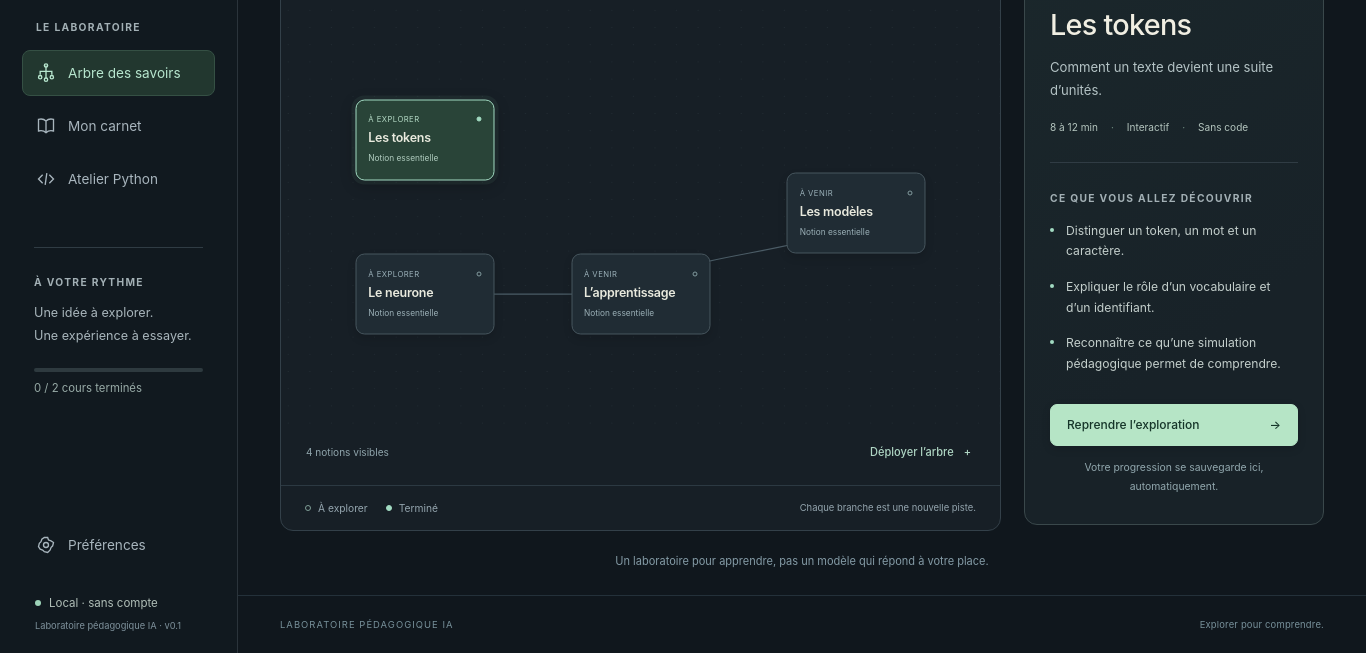
ne termine pas un cours sans exercice réussi
(page scrolled)
Click the button "Reprendre l’exploration →": (1174, 426) 1050,404 -> 1298,446
(page scrolled)
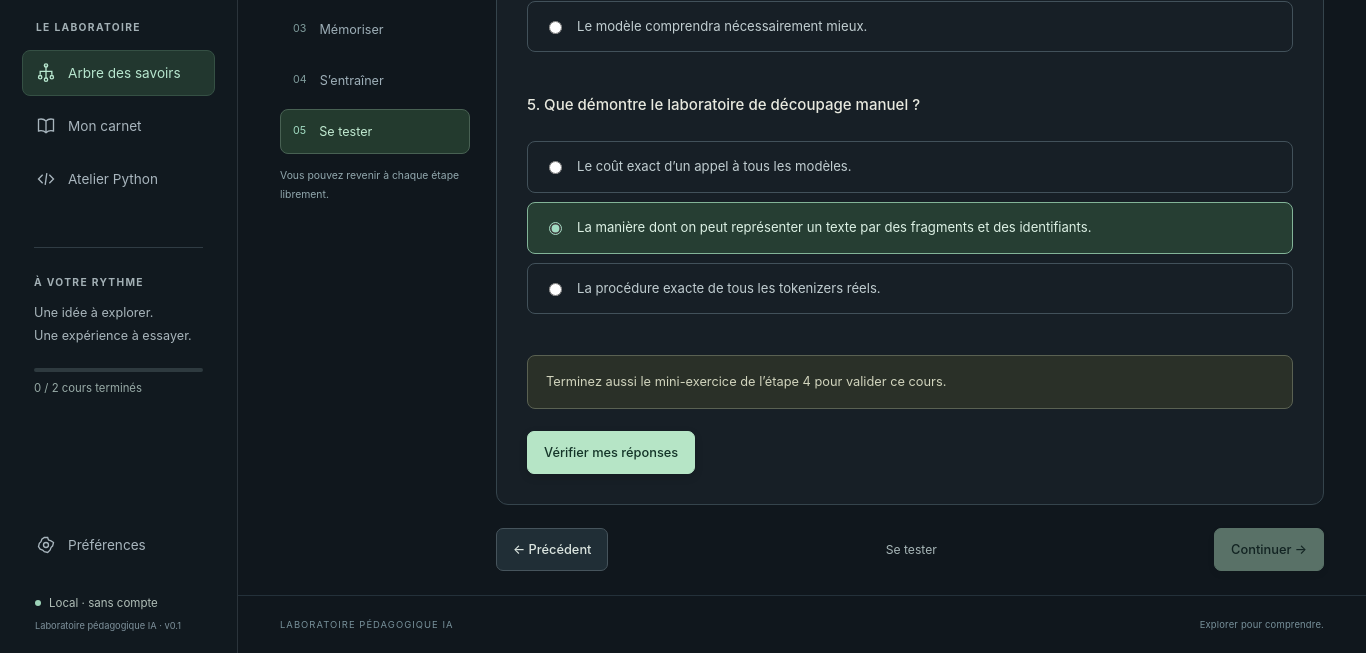
Click the button "Vérifier mes réponses": (611, 453) 527,431 -> 695,474
(page scrolled)
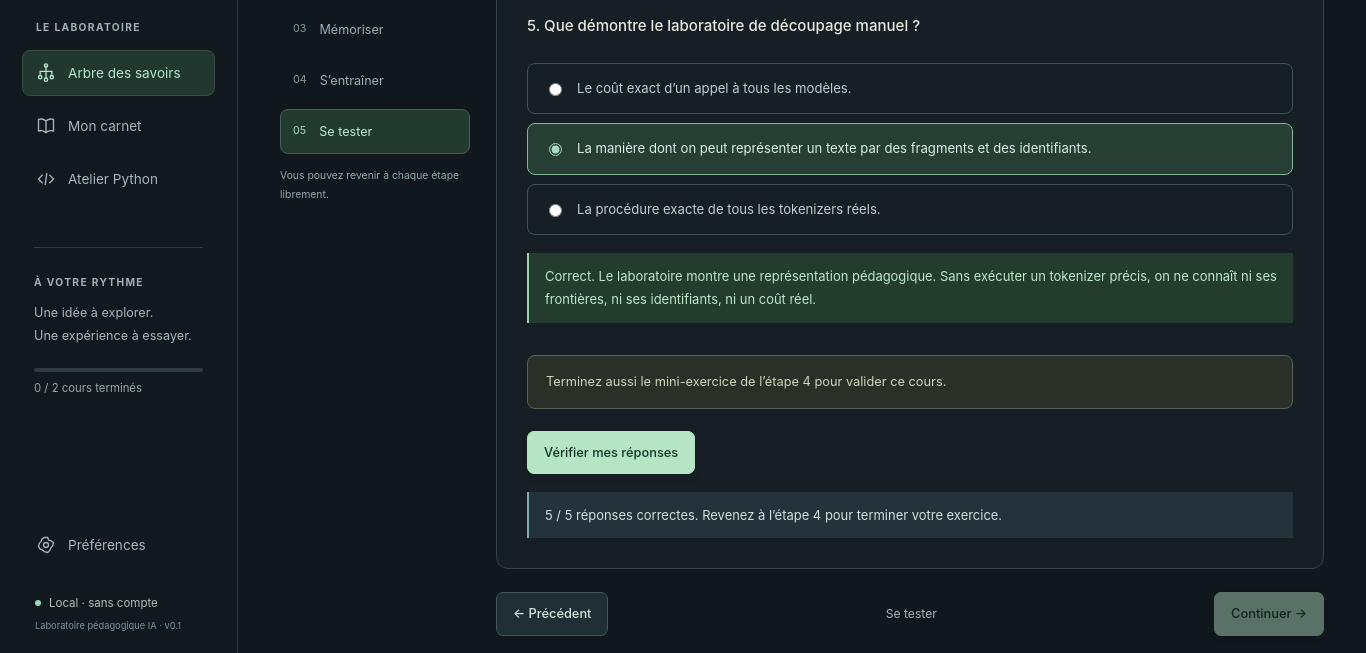
Check: the text "5 / 5 réponses correctes. Revenez à l’étape 4 pour terminer votre exercice." is shown, box 527,492 -> 1293,538
